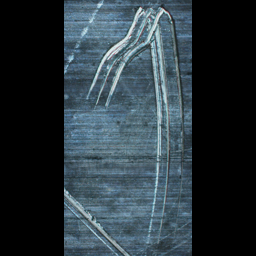d: (81, 2, 185, 249), (64, 181, 132, 256), (64, 0, 111, 76)
